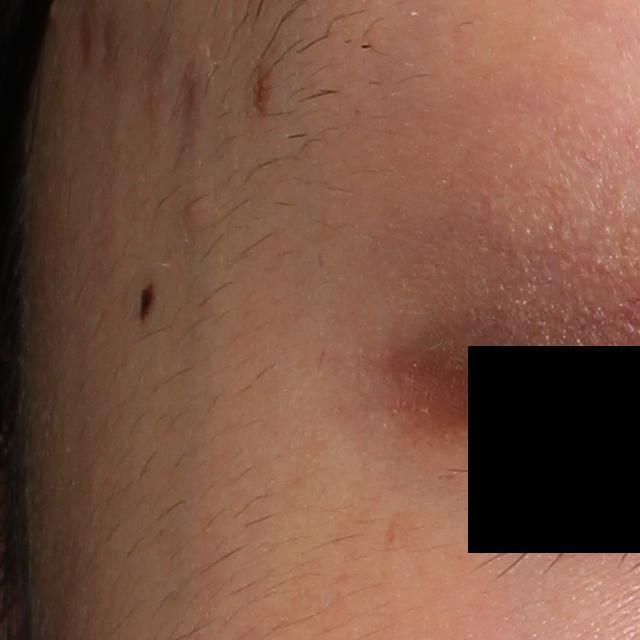nevus: (248, 54, 279, 117), (136, 278, 161, 332)
papule: (181, 194, 214, 225)
